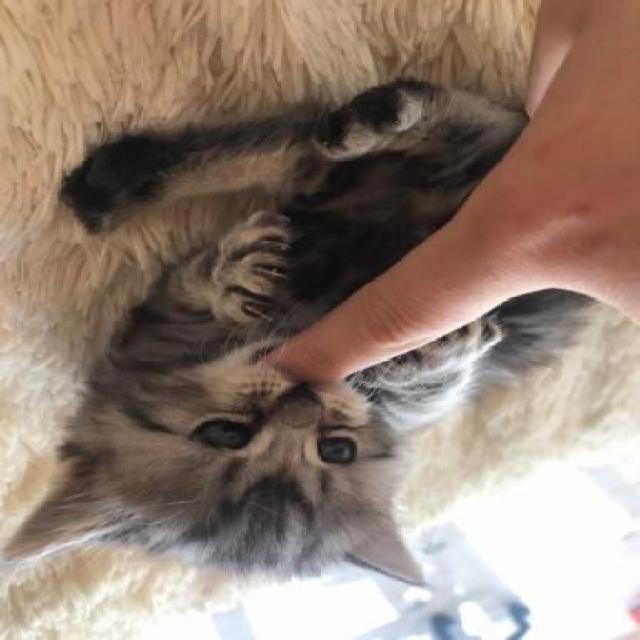cat: (1, 88, 544, 564)
